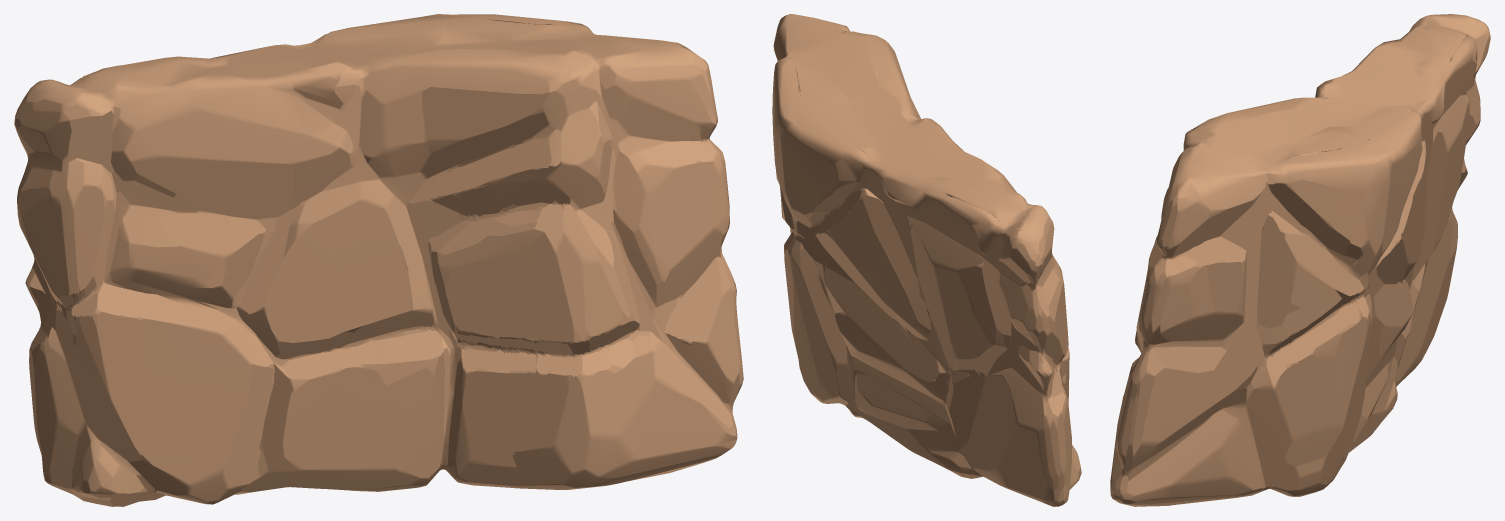
3 renders of one model, left to right at view 1: azimuth 30°, elevation 25°; view 2: azimuth 150°, elevation 25°; view 3: azimuth 270°, elevation 25°, orthographic. The views are drawn at different scales.
Visible parts, largest first — view 1: Mesh_37_LOD0; view 2: Mesh_37_LOD0; view 3: Mesh_37_LOD0.
Part boxes in pixels (x1,y1,x2,y2): Mesh_37_LOD0: (14, 14, 743, 506); Mesh_37_LOD0: (772, 14, 1081, 506); Mesh_37_LOD0: (1110, 14, 1490, 506).
Size of what is drawn, in the model's own units: 2853 by 2300 by 2076.
